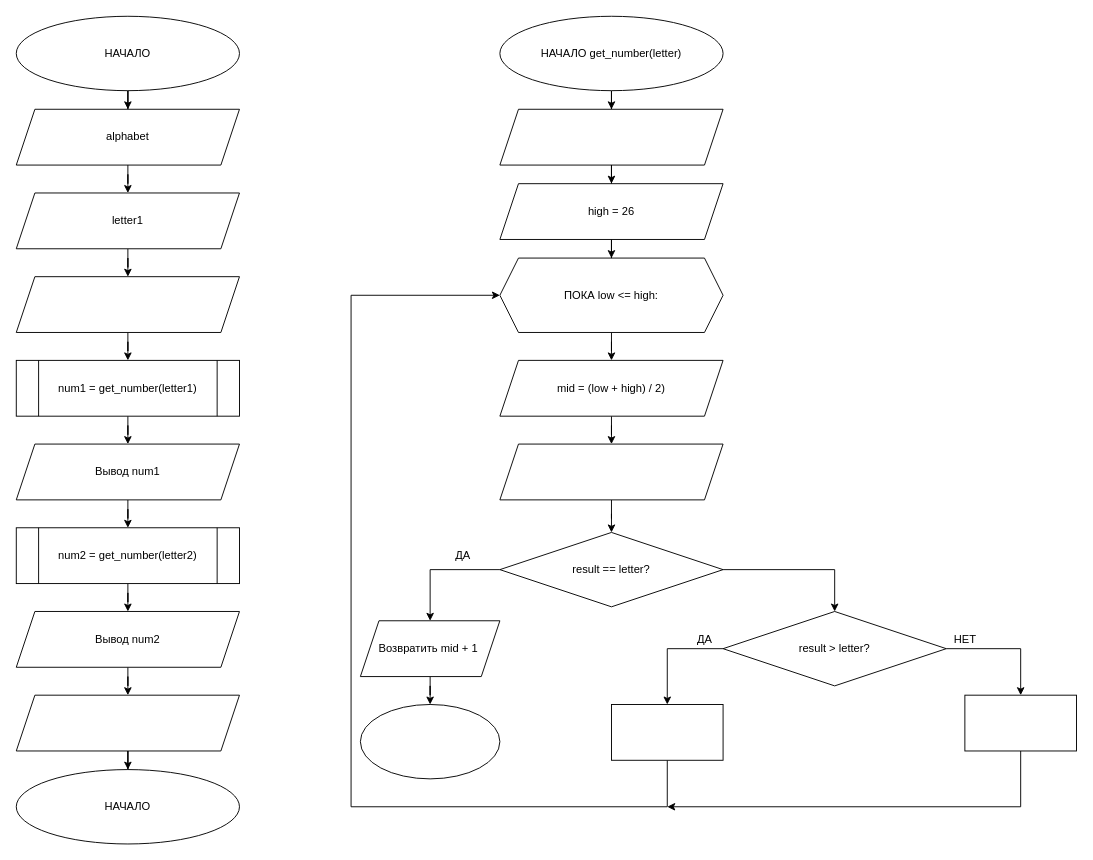
Some shapes in this 1093 by 860 pixel diagram are drawn without their labels. Here are the shapes that lost their labels. From the top down, the centre of each, then its label:
the point at 611,136: low = 0
the point at 127,304: letter2
the point at 611,471: result = alphabet[mid]
the point at 127,722: Вывод num2 - num1
the point at 429,741: КОНЕЦ get_number(letter)
the point at 667,732: high = mid - 1
the point at 1020,722: low = mid + 1
